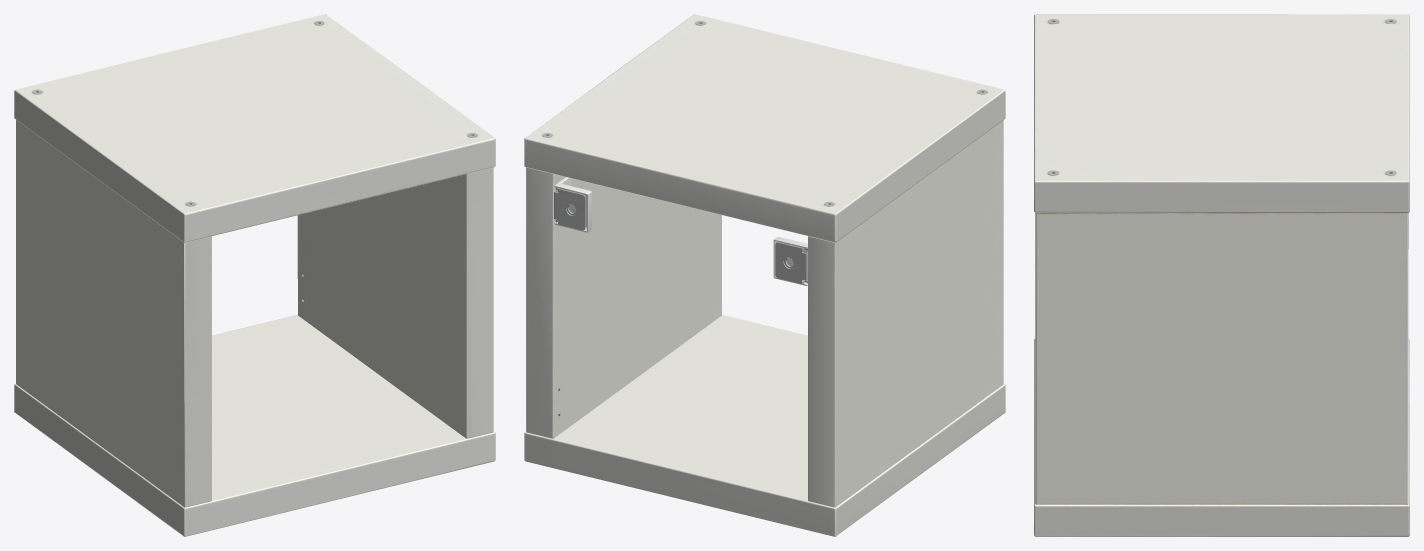
File: KALLAX etag 42x41 blanc.glb
3 views of the same model, side by side, from view 1: azimuth 30°, elevation 25°; view 2: azimuth 150°, elevation 25°; view 3: azimuth 270°, elevation 25° (orthographic). The views are drawn at different scales.
Visible parts, largest first — view 1: model; view 2: model; view 3: model.
Boxes of the visible parts, <box> form: model: <box>14,14,495,536</box>; model: <box>524,14,1005,536</box>; model: <box>1034,14,1409,536</box>.
Bounding box in the file's own units: 0.4141 × 0.4107 × 0.3921.
Materials: 1 (1 with a texture image).
